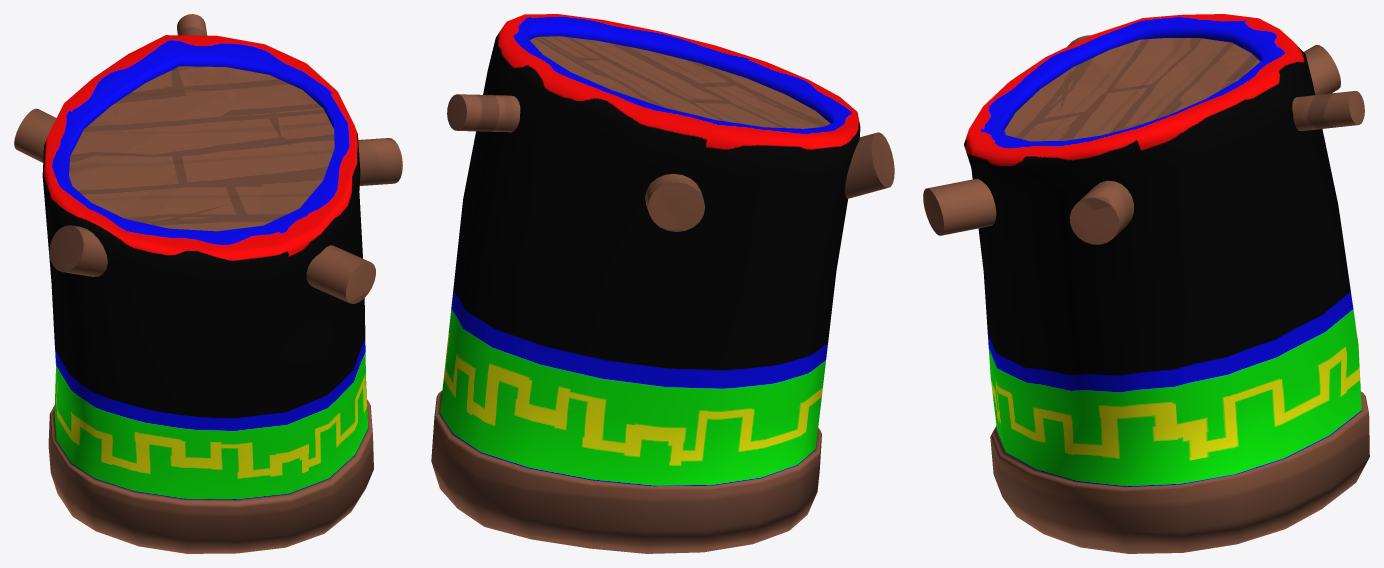
Rendered from aanggnag_home_03.fbx.
3 views of the same model, side by side, from view 1: azimuth 30°, elevation 25°; view 2: azimuth 150°, elevation 25°; view 3: azimuth 270°, elevation 25° (orthographic). The views are drawn at different scales.
Visible parts, largest first — view 1: aanggnag_home_03; view 2: aanggnag_home_03; view 3: aanggnag_home_03.
Boxes of the visible parts, x1,y1,x2,y2 form: aanggnag_home_03: [14, 14, 402, 553]; aanggnag_home_03: [431, 14, 894, 553]; aanggnag_home_03: [923, 14, 1369, 553].
Size of the model in its own units: 291 by 340 by 306.
2 materials, 2 textured.
